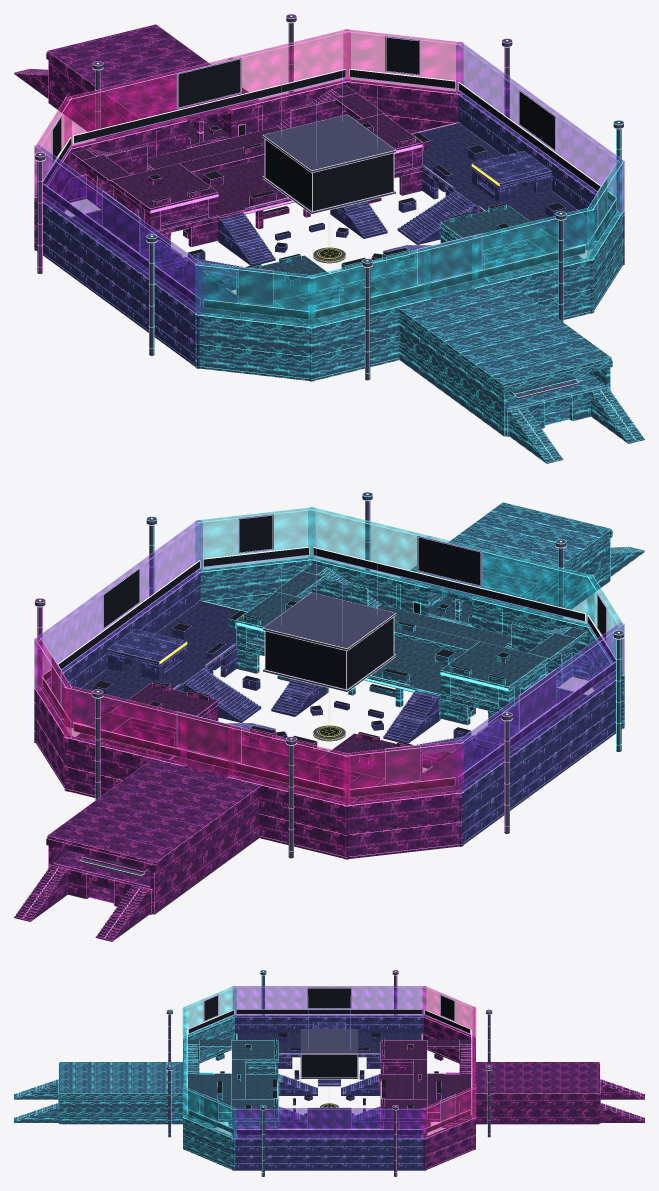
Rendered from kb_arena_v36.glb.
The picture shows the model from 3 angles, top to bottom: view 1: azimuth 30°, elevation 25°; view 2: azimuth 150°, elevation 25°; view 3: azimuth 270°, elevation 25°; orthographic projection. The views are drawn at different scales.
Visible parts, largest first — view 1: skin; view 2: skin; view 3: skin.
Part boxes in pixels (x1,y1,x2,y2): skin: (14,14,644,463); skin: (14,492,644,941); skin: (14,970,644,1176).
Size of the model in its own units: 140 by 49.53 by 271.
24 materials, 9 textured.
